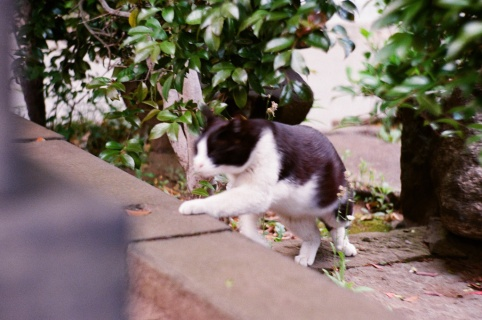Cat: (177, 100, 356, 266)
